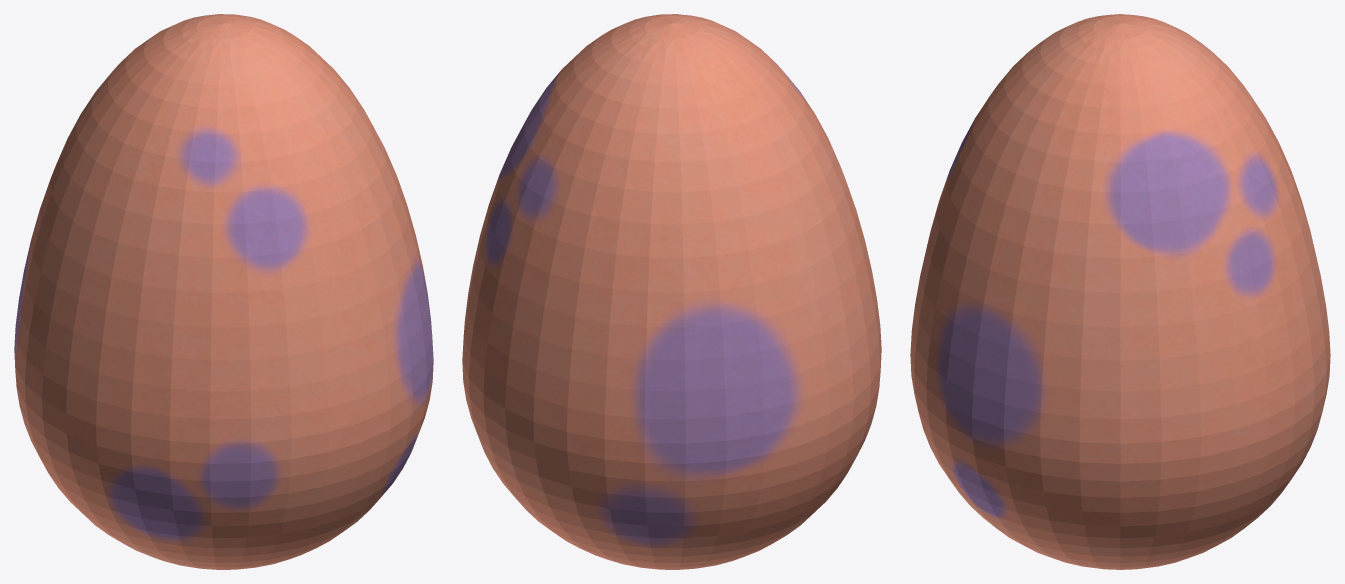
Rendered from egg.obj.
3 renders of one model, left to right at view 1: azimuth 30°, elevation 25°; view 2: azimuth 150°, elevation 25°; view 3: azimuth 270°, elevation 25°, orthographic.
Visible parts, largest first — view 1: Object_Modelegg_Material001; view 2: Object_Modelegg_Material001; view 3: Object_Modelegg_Material001.
Boxes of the visible parts, x1,y1,x2,y2 form: Object_Modelegg_Material001: (14, 14, 433, 569); Object_Modelegg_Material001: (462, 14, 881, 569); Object_Modelegg_Material001: (910, 14, 1330, 569).
Size of the model in its own units: 1.8 by 2.5 by 1.8.
